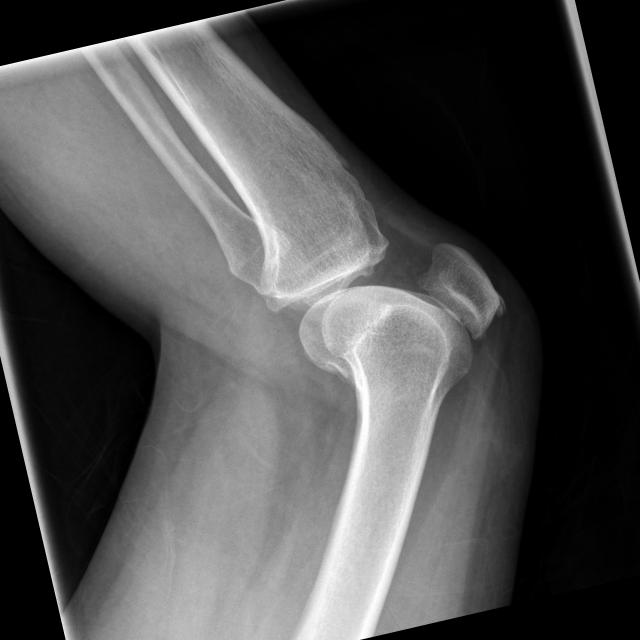Knee: (241, 180, 525, 422)
